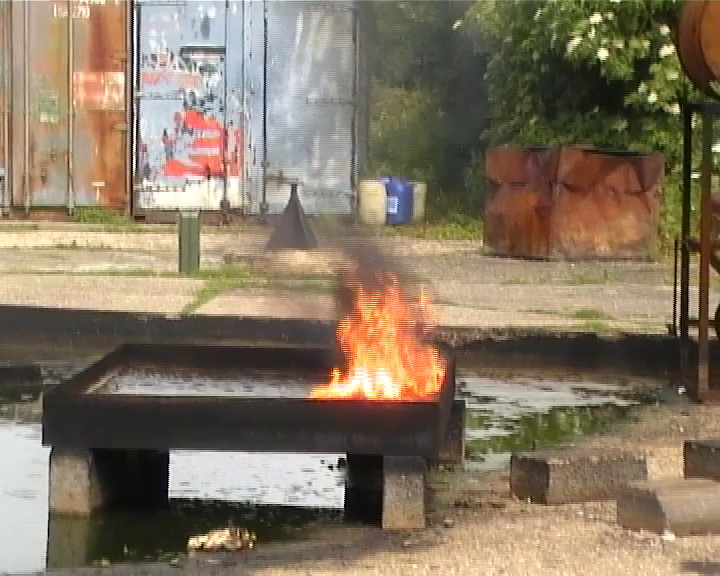fire: (320, 277, 442, 400)
